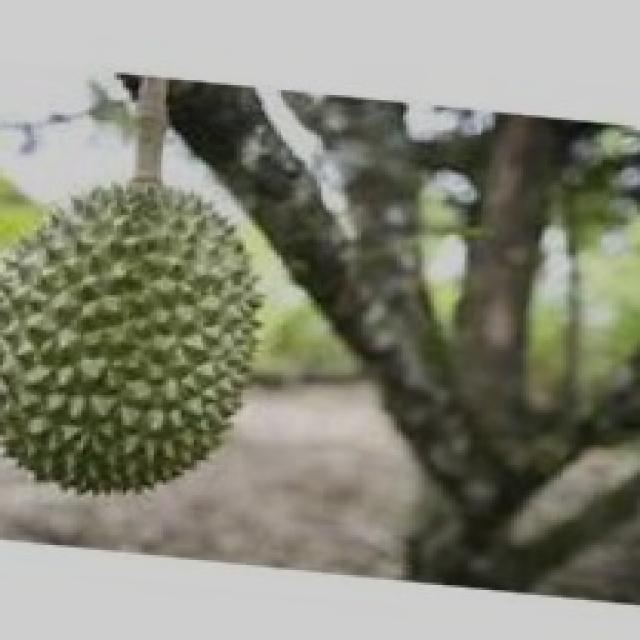fruit: (0, 135, 311, 530)
